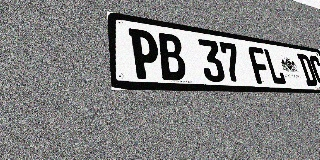3: (197, 38, 226, 82)
7: (218, 41, 245, 83)
B: (156, 32, 188, 81)
C: (308, 55, 320, 87)
D: (297, 53, 319, 86)
F: (247, 46, 273, 84)
L: (263, 48, 287, 85)
P: (128, 28, 162, 80)
